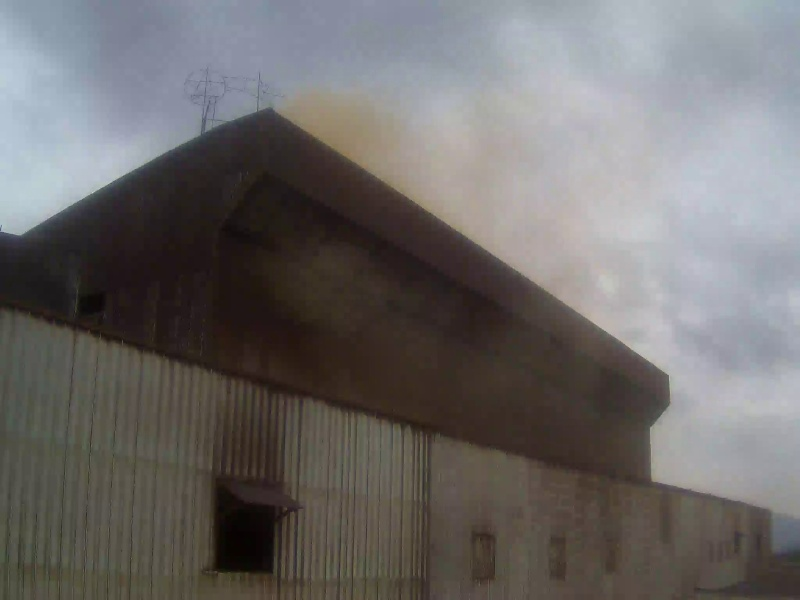ruim: (281, 92, 534, 316)
